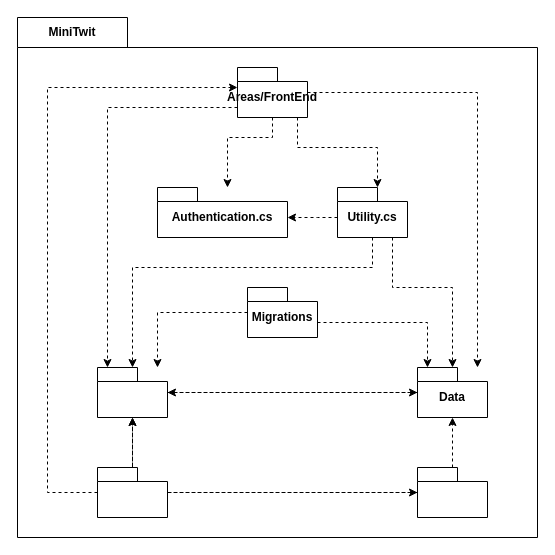
The diagram is 555 pixels wide and 555 high, and some of its shapes have lost their labels. The box of each missing label's shape, as (x1, y1, x2, y2) in pixels:
Areas/Api: (416, 466, 488, 518)
Models: (96, 366, 168, 418)
Program.cs: (96, 466, 168, 518)
